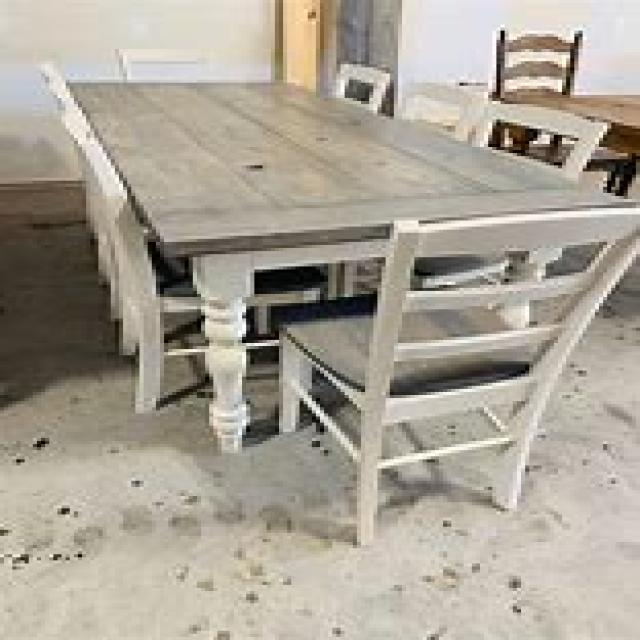chair: (275, 193, 636, 545)
table: (37, 68, 636, 454)
